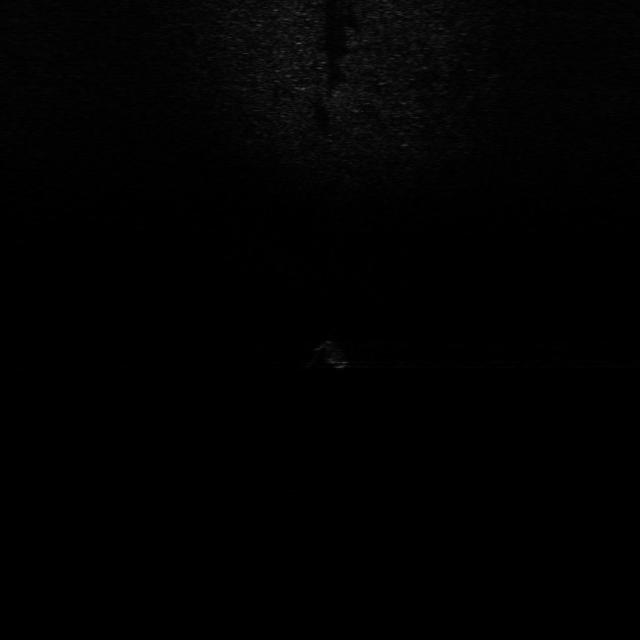human body: (309, 331, 353, 376)
